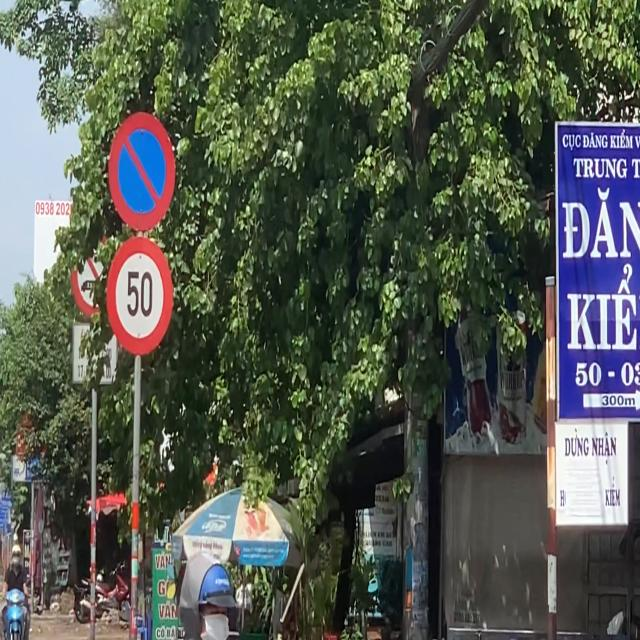Cam do: (108, 110, 176, 232)
Toc do toi da: (106, 236, 174, 356)
